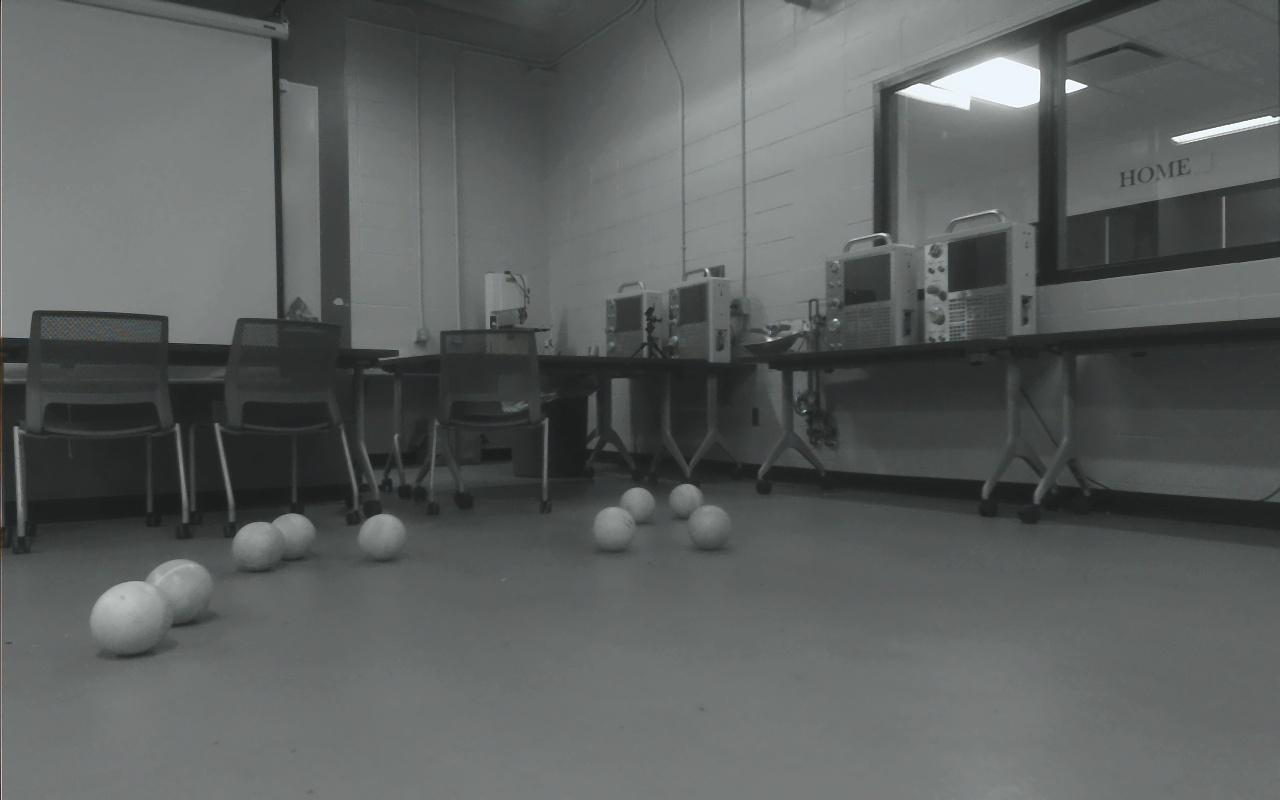Fuel: (90, 581, 172, 656), (146, 559, 212, 624), (230, 522, 284, 572), (358, 514, 407, 561), (270, 513, 316, 560), (687, 505, 731, 550), (593, 506, 636, 552), (668, 483, 704, 520), (620, 487, 655, 525)
